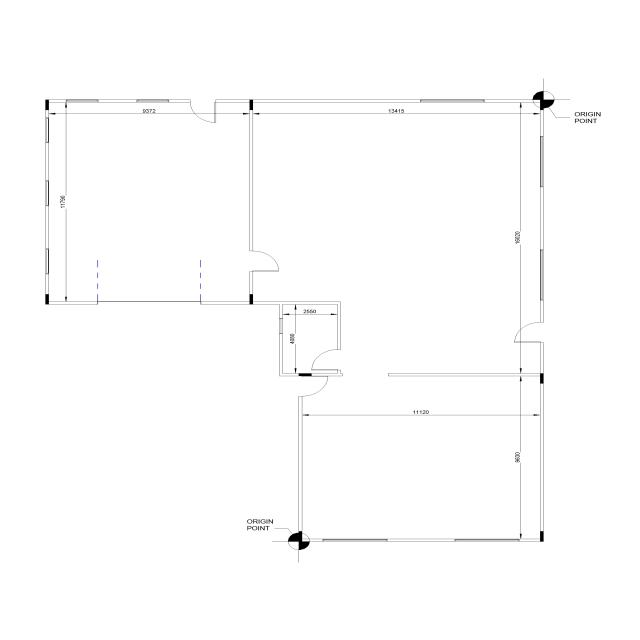Column: (540, 531, 544, 542), (298, 373, 312, 376), (45, 100, 49, 110), (45, 294, 49, 304), (540, 374, 544, 384), (540, 100, 544, 110), (250, 294, 253, 305), (250, 100, 253, 110), (299, 532, 302, 542)
Door: (514, 322, 544, 343), (311, 350, 341, 370), (299, 376, 328, 396), (190, 100, 216, 122), (250, 251, 278, 271)
Window: (540, 136, 544, 187), (540, 250, 544, 300), (420, 100, 485, 102), (323, 539, 387, 541), (455, 539, 519, 541), (45, 117, 49, 143), (45, 181, 49, 206), (45, 249, 49, 274), (66, 100, 98, 102), (279, 318, 283, 334), (137, 100, 169, 102)
